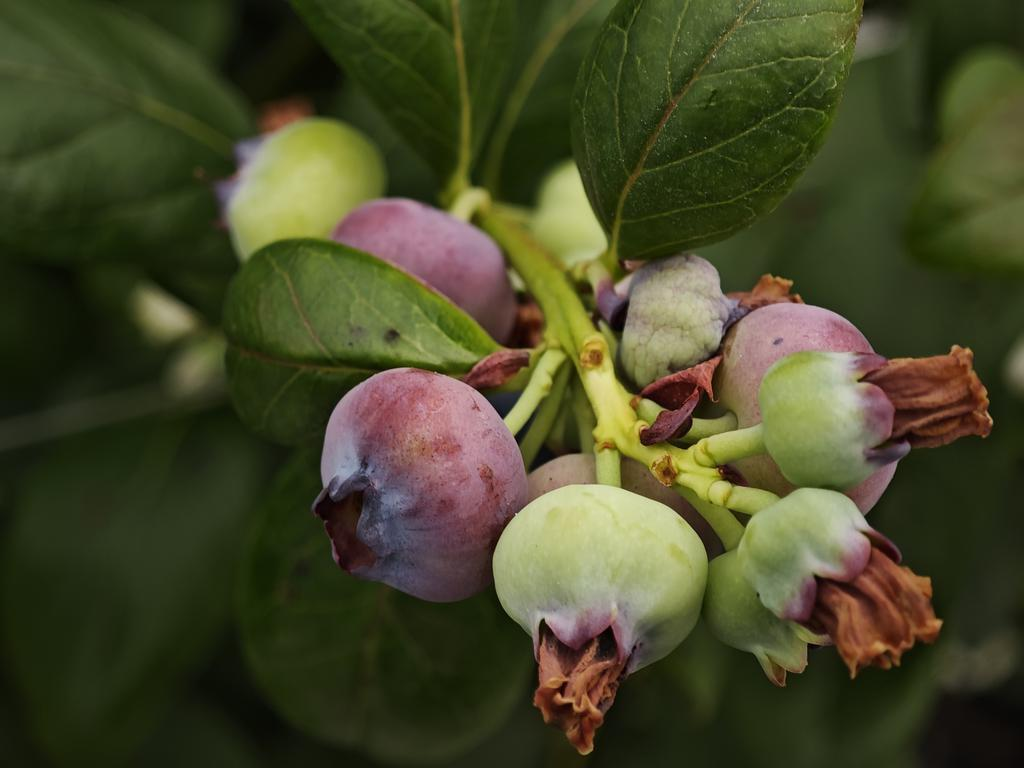Semi-RipeBlueBerry: (314, 364, 528, 606)
UnripeBlueBerry: (494, 481, 709, 679)
